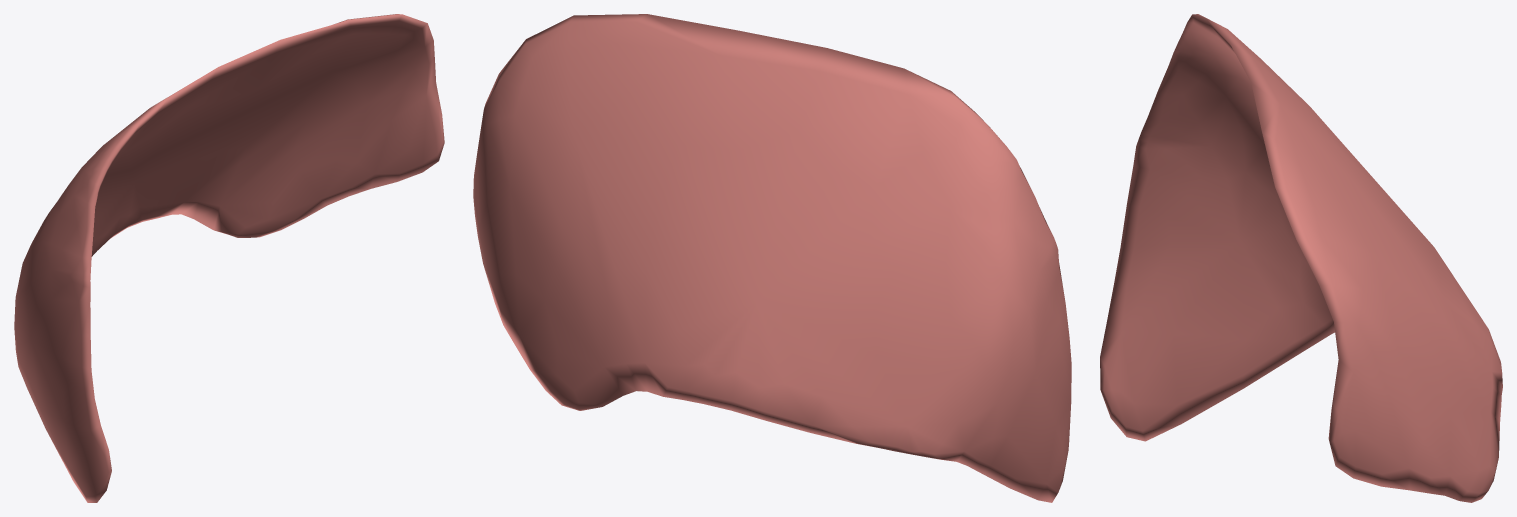
3 renders of one model, left to right at view 1: azimuth 30°, elevation 25°; view 2: azimuth 150°, elevation 25°; view 3: azimuth 270°, elevation 25°, orthographic. The views are drawn at different scales.
Parts seen in each view (by area): view 1: ZA_74aa9b1e2a5b2e34; view 2: ZA_74aa9b1e2a5b2e34; view 3: ZA_74aa9b1e2a5b2e34.
Boxes of the visible parts, x1=… form: ZA_74aa9b1e2a5b2e34: x1=14, y1=14, x2=444, y2=502; ZA_74aa9b1e2a5b2e34: x1=473, y1=14, x2=1071, y2=502; ZA_74aa9b1e2a5b2e34: x1=1100, y1=14, x2=1502, y2=502.
Bounding box in the file's own units: 0.0222 × 0.0179 × 0.0128.
